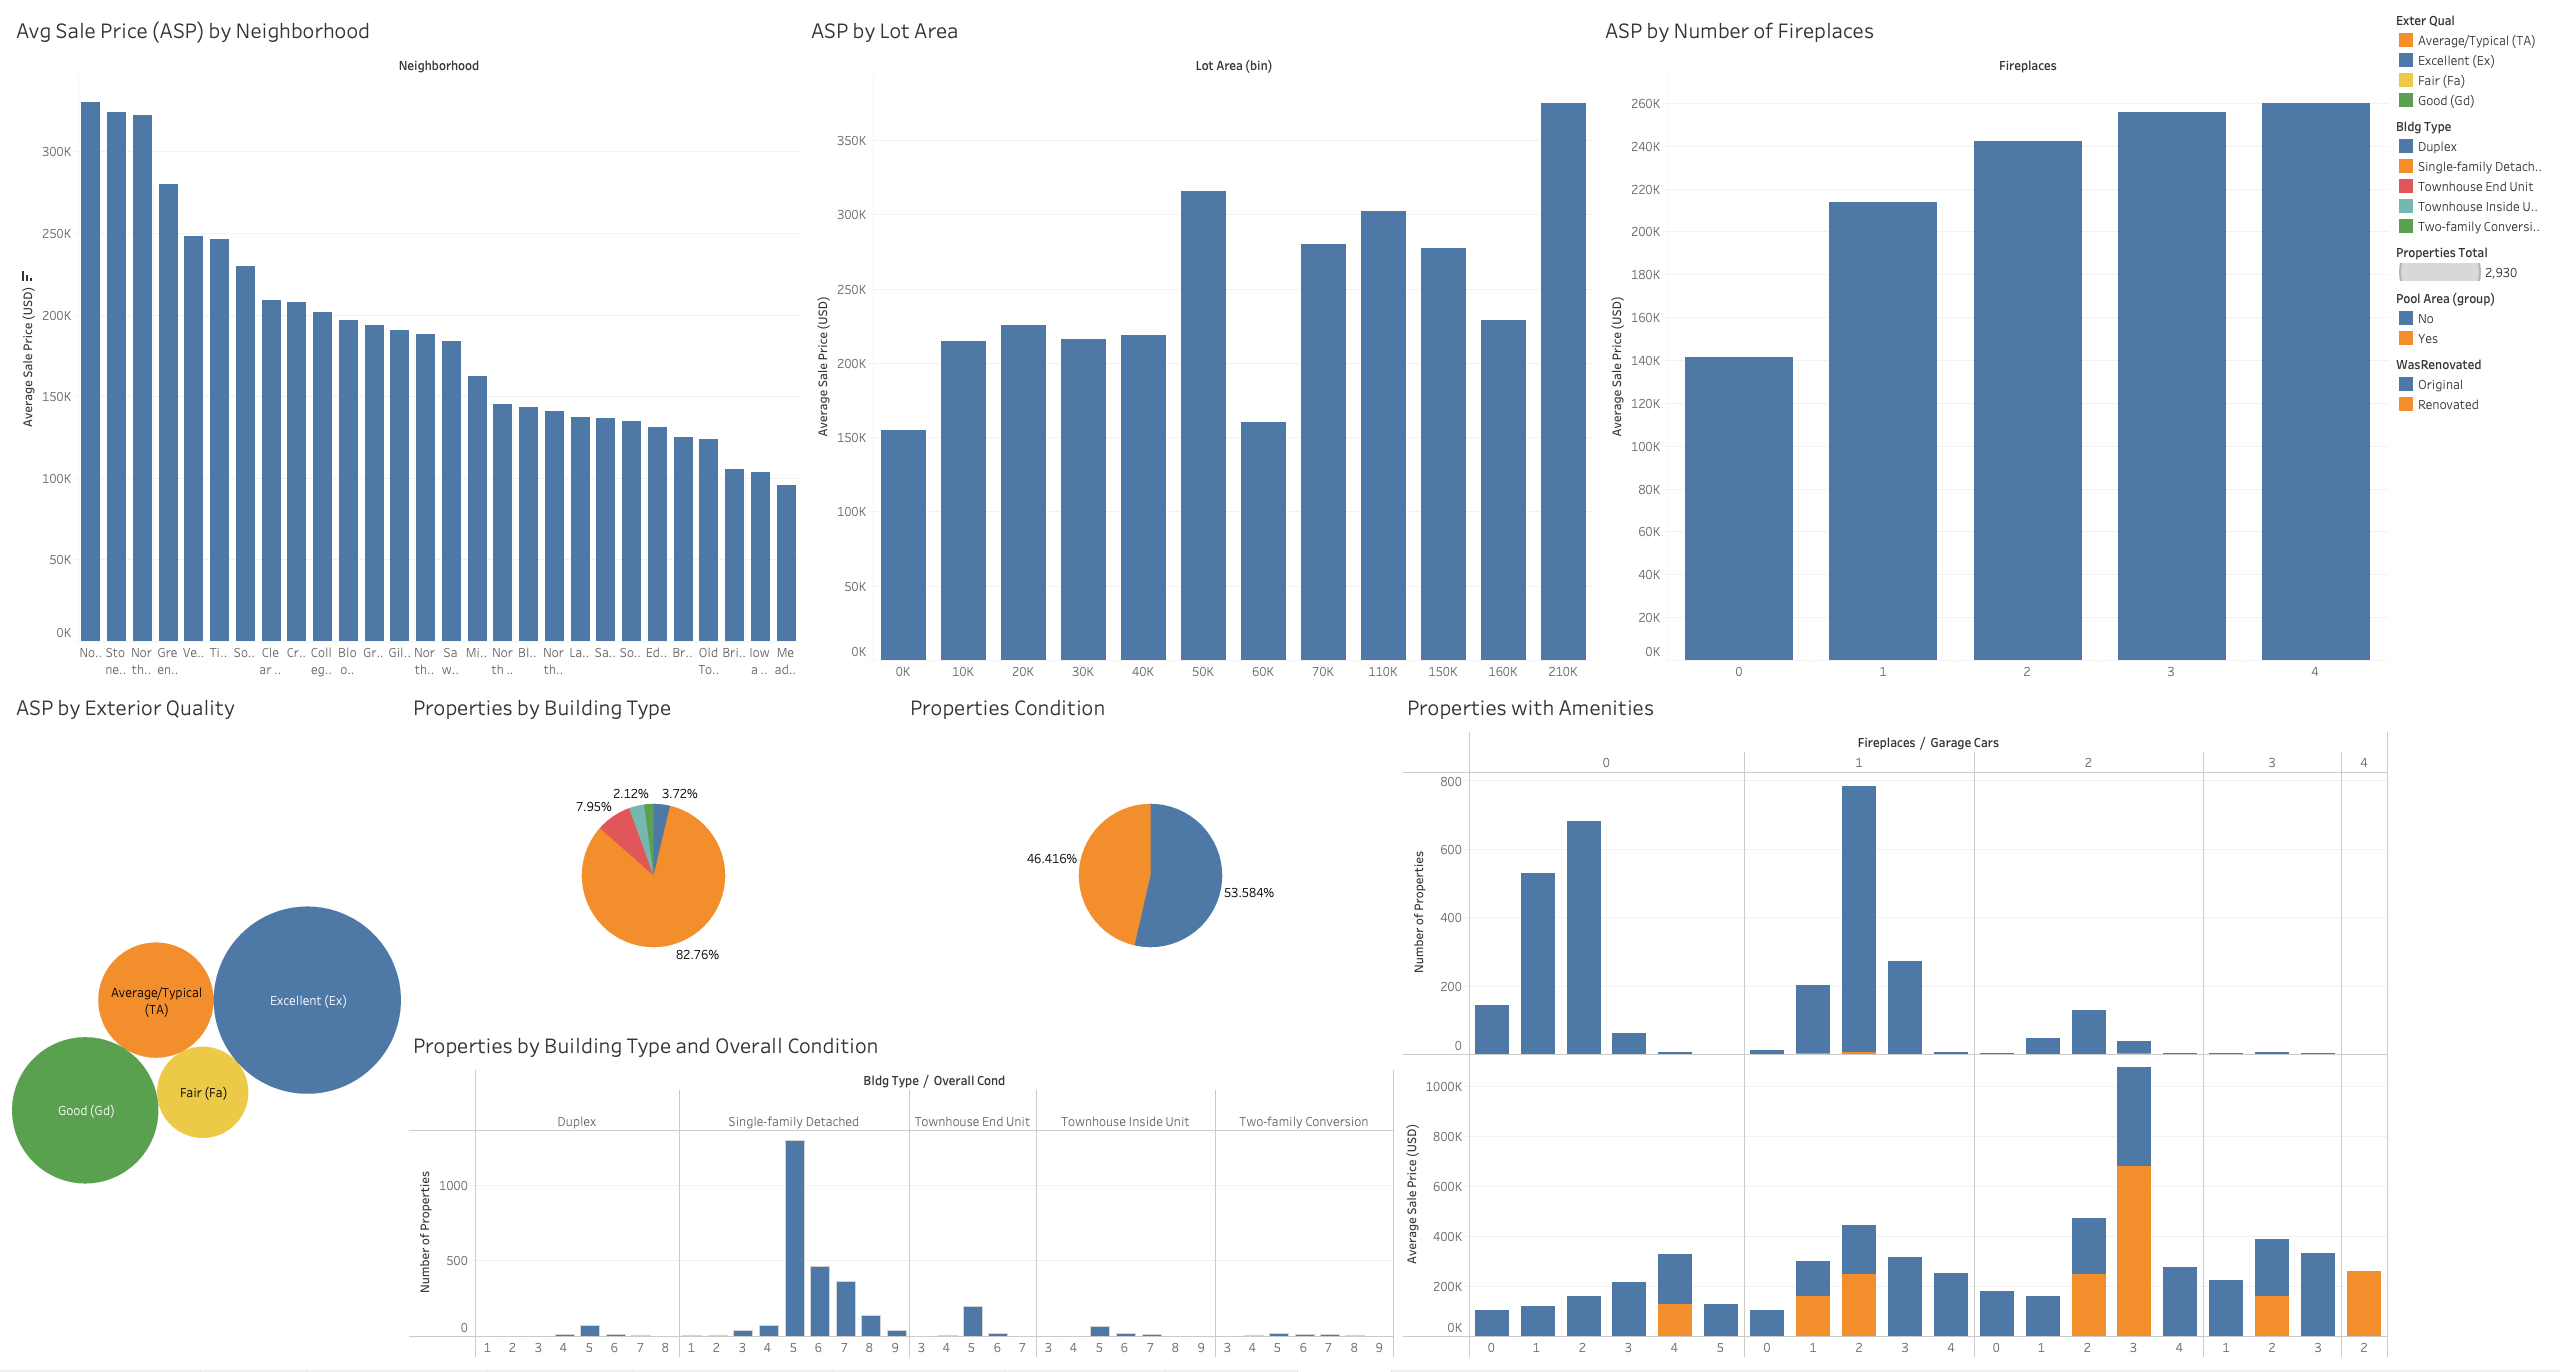

The dashboard page shown, as its layout file describes it:
{"tool":"tableau","page":{"name":"Dashboard 1","canvas":[1000,1000],"units":"permille","ordinal":0},"visuals":[{"type":"worksheet","title":"Avg Sale Price (ASP) by Neighborhood","mark":"Automatic","rows":["SalePrice"],"cols":["Neighborhood"],"box":[3.4,6.8,308.2,493.2]},{"type":"worksheet","title":"ASP by Lot Area","mark":"Automatic","rows":["SalePrice"],"cols":["Lot Area (bin)"],"box":[311.6,6.8,308.2,493.2]},{"type":"worksheet","title":"ASP by Number of Fireplaces","mark":"Automatic","rows":["SalePrice"],"cols":["Fireplaces"],"box":[619.8,6.8,308.2,493.2]},{"type":"legend","title":"ASP by Exterior Quality","param":"[federated.1mvsvex0hekgs71gkjbvx0d3dwef].[none:Exter Qual:nk]","box":[928,6.8,68.6,90.1]},{"type":"legend","title":"Properties by Building Type","param":"[federated.1mvsvex0hekgs71gkjbvx0d3dwef].[none:Bldg Type:nk]","box":[928,96.9,68.6,107]},{"type":"legend","title":"Properties by Building Type","param":"[federated.1mvsvex0hekgs71gkjbvx0d3dwef].[__tableau_internal_object_id__].[cnt:A","box":[928,203.9,68.6,39.1]},{"type":"legend","title":"Properties with Amenities","param":"[federated.1mvsvex0hekgs71gkjbvx0d3dwef].[Pool Area (group)]","box":[928,243,68.6,56.1]},{"type":"legend","title":"Properties Condition","param":"[federated.1mvsvex0hekgs71gkjbvx0d3dwef].[none:Calculation_2033938197760237568:o","box":[928,299.1,68.6,56.1]},{"type":"worksheet","title":"ASP by Exterior Quality","mark":"Circle","box":[3.4,500,154.1,493.2]},{"type":"worksheet","title":"Properties by Building Type","mark":"Pie","box":[157.5,500,192.6,246.6]},{"type":"worksheet","title":"Properties Condition","mark":"Pie","box":[350.1,500,192.6,246.6]},{"type":"worksheet","title":"Properties with Amenities","mark":"Automatic","rows":["AmesHousing.csv_4AEA2C980A8046C8AE9A83368E9FACC1","SalePrice"],"cols":["Fireplaces","Garage Cars"],"box":[542.8,500,385.2,493.2]},{"type":"worksheet","title":"Properties by Building Type and Overall Condition","mark":"Automatic","rows":["AmesHousing.csv_4AEA2C980A8046C8AE9A83368E9FACC1"],"cols":["Bldg Type","Overall Cond"],"box":[157.5,746.6,385.2,246.6]}]}

Visuals, with their boxes on the dashboard's canvas, which has no fixed pixel size, in thousandths of its width and height (x1, y1, x2, y2). These are canvas units, not pixel positions in the 2560x1372 screenshot, which may show the page scaled, cropped or inside an application window:
"Avg Sale Price (ASP) by Neighborhood" worksheet: 3 7 312 500
"ASP by Lot Area" worksheet: 312 7 620 500
"ASP by Number of Fireplaces" worksheet: 620 7 928 500
"ASP by Exterior Quality" legend: 928 7 997 97
"Properties by Building Type" legend: 928 97 997 204
"Properties by Building Type" legend: 928 204 997 243
"Properties with Amenities" legend: 928 243 997 299
"Properties Condition" legend: 928 299 997 355
"ASP by Exterior Quality" worksheet (Circle marks): 3 500 158 993
"Properties by Building Type" worksheet (Pie marks): 158 500 350 747
"Properties Condition" worksheet (Pie marks): 350 500 543 747
"Properties with Amenities" worksheet: 543 500 928 993
"Properties by Building Type and Overall Condition" worksheet: 158 747 543 993
